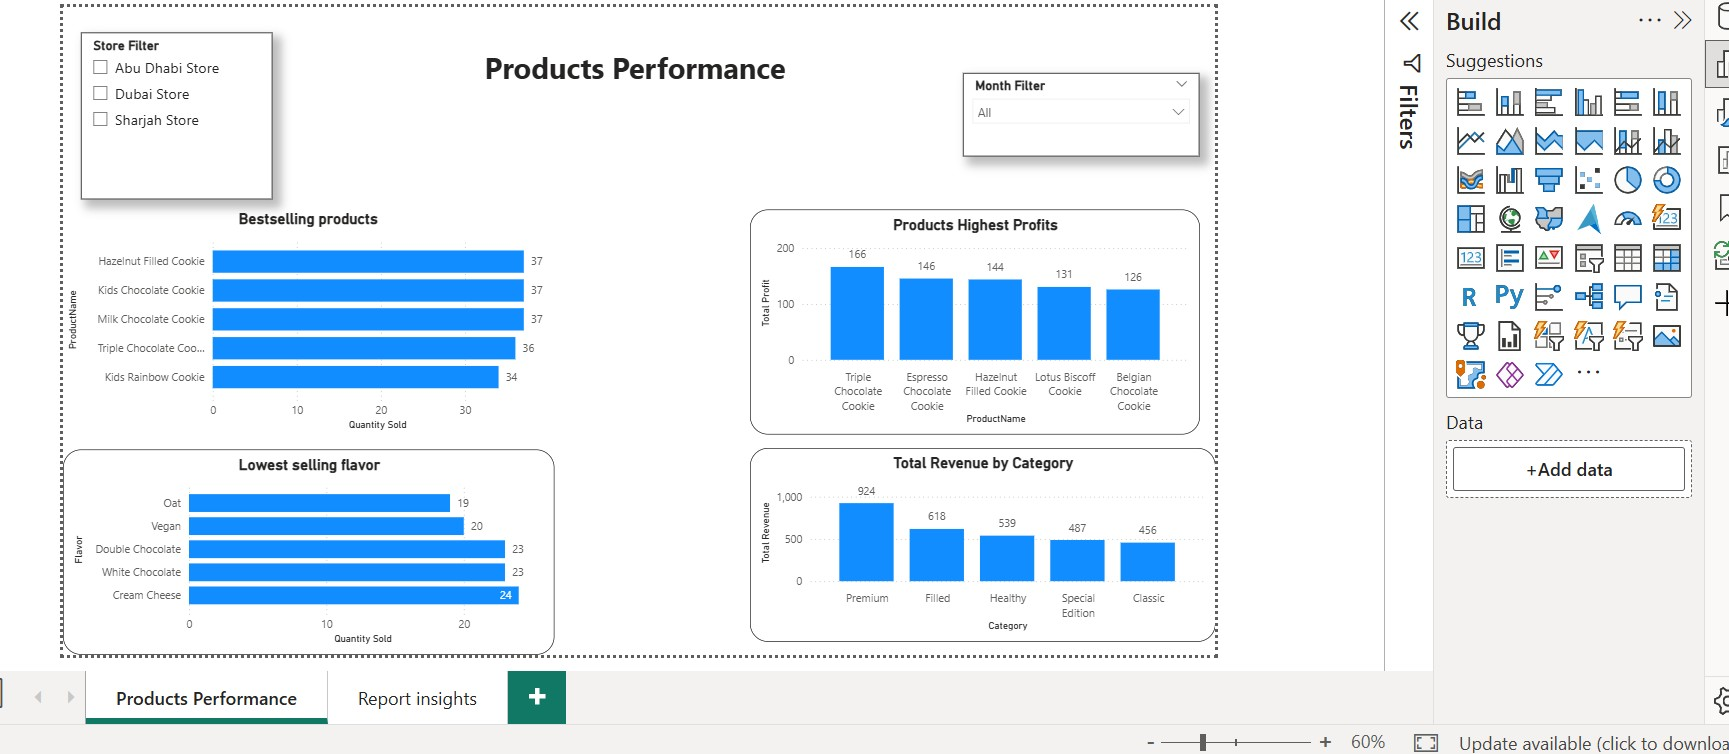

The dashboard page shown, as its layout file describes it:
{"tool":"powerbi","page":{"name":"Products Performance ","canvas":[1280,720],"ordinal":0},"visuals":[{"type":"barChart","title":"Bestselling products","fields":{"Y":["Fact_Sales.Quantity Sold"],"Category":["Products.ProductName"]},"box":[0,225,545,250],"z":0},{"type":"columnChart","title":"Products Highest Profits","fields":{"Y":["Fact_Sales.Total Profit"],"Category":["Products.ProductName"]},"box":[762.5,225,500,250],"z":1000},{"type":"barChart","title":"Lowest selling flavor ","fields":{"Y":["Fact_Sales.Quantity Sold"],"Category":["Products.Flavor"]},"box":[0,492,546,228],"z":2000},{"type":"columnChart","fields":{"Y":["Fact_Sales.Total Revenue"],"Category":["Products.Category"]},"box":[762.5,490,517.5,215],"z":3000},{"type":"slicer","fields":{"Values":["Stores.StoreName"]},"box":[20,27.5,212.5,185],"z":4000},{"type":"slicer","fields":{"Values":["DimDate.Month Name"]},"box":[1000,72.5,262.5,92.5],"z":5000},{"type":"textbox","box":[425,40,430,67.5],"z":6000}]}

Visuals, with their boxes on the page's 1280x720 design canvas (x1, y1, x2, y2). These are canvas units, not pixel positions in the 1729x754 screenshot, which may show the page scaled, cropped or inside an application window:
"Bestselling products" barChart: [0,225,545,475]
"Products Highest Profits" columnChart: [762,225,1262,475]
"Lowest selling flavor " barChart: [0,492,546,720]
columnChart - Fact_Sales.Total Revenue x Products.Category: [762,490,1280,705]
slicer - Stores.StoreName: [20,28,232,212]
slicer - DimDate.Month Name: [1000,72,1262,165]
textbox: [425,40,855,108]
